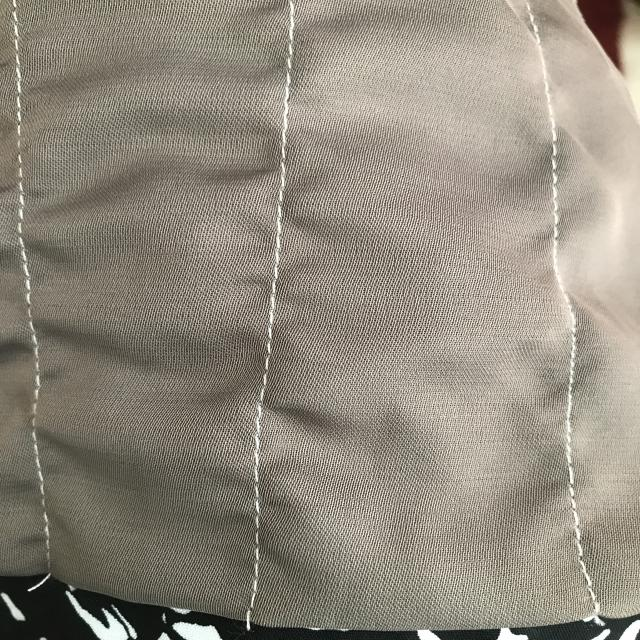good: (7, 43, 35, 234), (10, 262, 60, 358), (269, 127, 308, 236), (16, 430, 58, 514), (233, 419, 280, 492), (565, 472, 595, 568), (277, 30, 308, 104), (246, 518, 274, 592)
